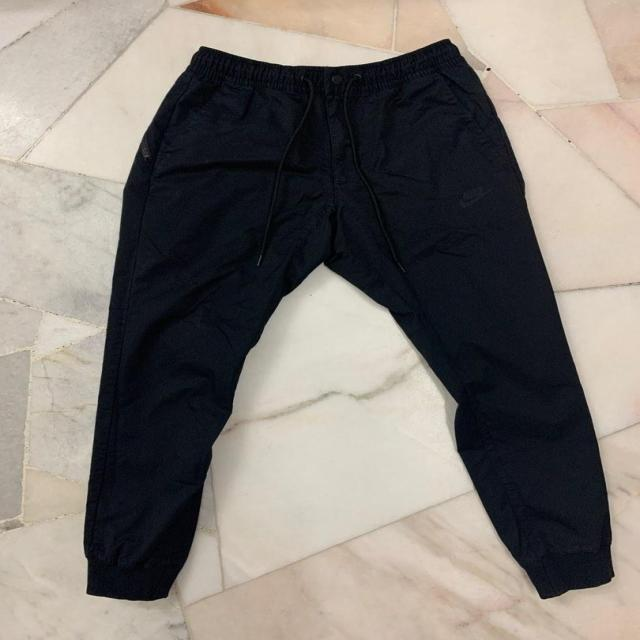long-pants: (85, 38, 621, 607)
